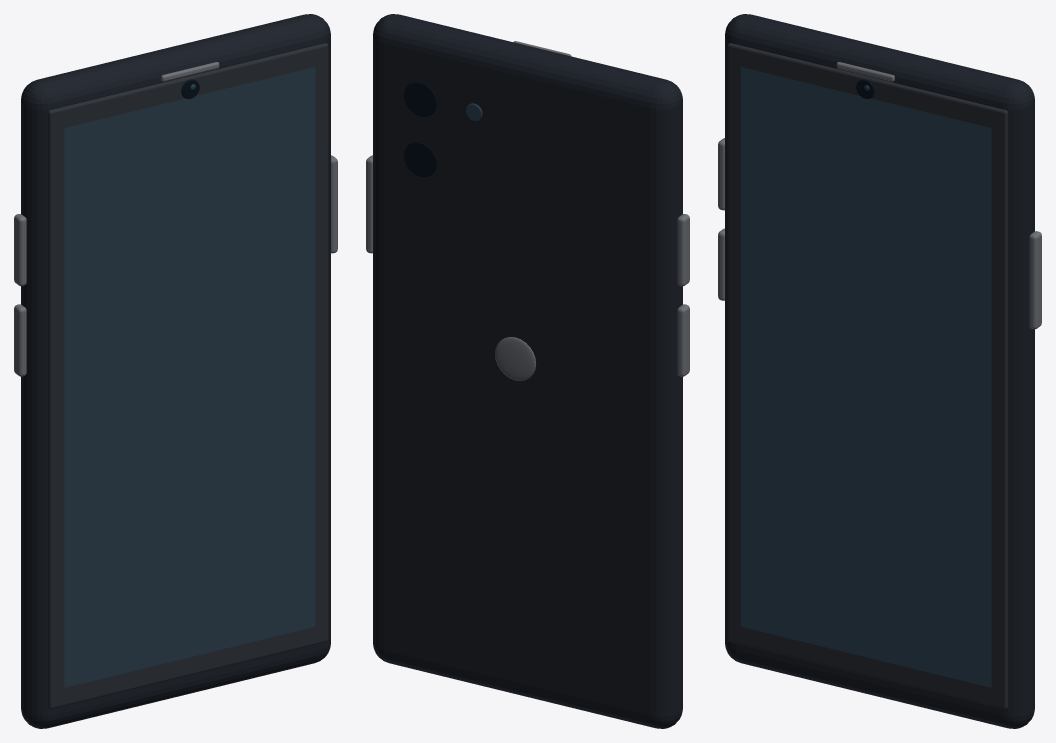
Rendered from celular.glb.
The picture shows the model from 3 angles, left to right: view 1: azimuth 30°, elevation 25°; view 2: azimuth 150°, elevation 25°; view 3: azimuth 330°, elevation 25°; orthographic projection.
Visible parts, largest first — view 1: PANTALLA_QR, CUERPO_CELULAR, MARCO_PANTALLA, BOTON_VOLUMEN_ABAJO, BOTON_VOLUMEN_ARRIBA, BOTON_ENCENDIDO; view 2: CUERPO_CELULAR, LOGOTIPO_TRASERO, CAMARA_TRASERA_1, CAMARA_TRASERA_2, BOTON_VOLUMEN_ABAJO, BOTON_VOLUMEN_ARRIBA, BOTON_ENCENDIDO; view 3: PANTALLA_QR, CUERPO_CELULAR, MARCO_PANTALLA, BOTON_ENCENDIDO.
Part boxes in pixels (x1=…): PANTALLA_QR: x1=64, y1=67, x2=315, y2=687; CUERPO_CELULAR: x1=21, y1=14, x2=330, y2=728; MARCO_PANTALLA: x1=47, y1=43, x2=328, y2=708; BOTON_VOLUMEN_ABAJO: x1=14, y1=304, x2=26, y2=376; BOTON_VOLUMEN_ARRIBA: x1=14, y1=214, x2=26, y2=286; BOTON_ENCENDIDO: x1=331, y1=155, x2=337, y2=253; CUERPO_CELULAR: x1=373, y1=14, x2=682, y2=728; LOGOTIPO_TRASERO: x1=495, y1=337, x2=535, y2=380; CAMARA_TRASERA_1: x1=404, y1=81, x2=437, y2=116; CAMARA_TRASERA_2: x1=404, y1=141, x2=437, y2=177; BOTON_VOLUMEN_ABAJO: x1=677, y1=304, x2=689, y2=376; BOTON_VOLUMEN_ARRIBA: x1=677, y1=214, x2=689, y2=286; BOTON_ENCENDIDO: x1=366, y1=155, x2=372, y2=253; PANTALLA_QR: x1=740, y1=67, x2=991, y2=687; CUERPO_CELULAR: x1=725, y1=14, x2=1034, y2=728; MARCO_PANTALLA: x1=727, y1=43, x2=1008, y2=708; BOTON_ENCENDIDO: x1=1029, y1=231, x2=1041, y2=329.
Bounding box in the file's own units: 0.0776 × 0.15 × 0.0122.
